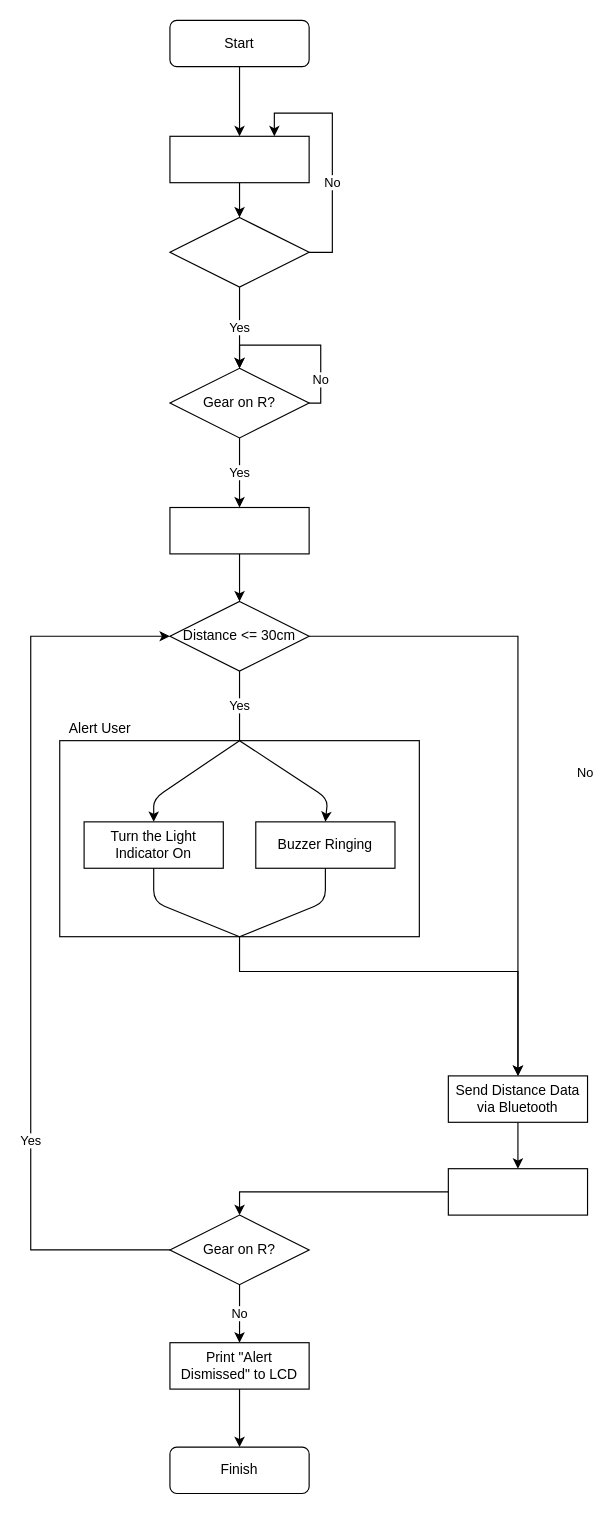
The diagram is 612 pixels wide and 1514 high, and some of its shapes have lost their labels. Each missing label, with the box of its shape:
Bluetooth Available?: (169, 216, 309, 287)
Check Distance: (169, 506, 309, 554)
Scan Bluetooth: (169, 135, 309, 183)
Show Data to Devices via Bluetooth: (447, 1168, 588, 1215)
